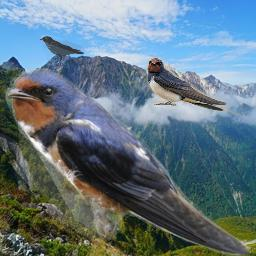Crow: (39, 35, 84, 65)
Swallow: (4, 68, 251, 256), (146, 56, 251, 119)
